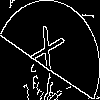X: (25, 25, 66, 81)
